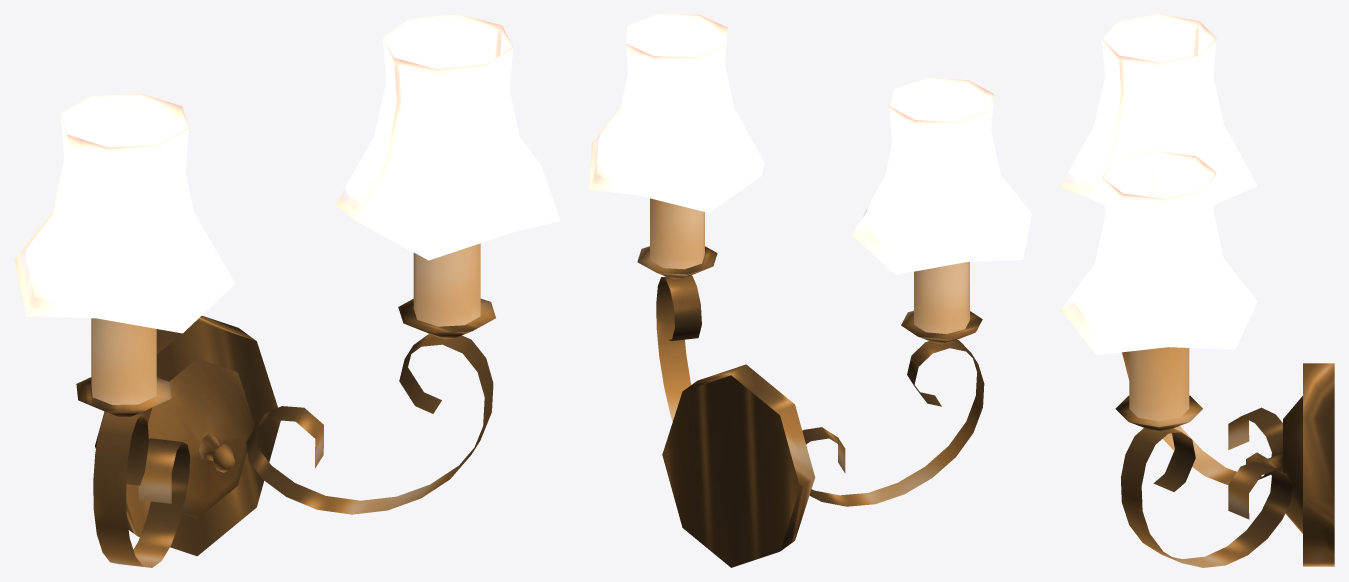
The model's file is sconce.fbx.
3 views of the same model, side by side, from view 1: azimuth 30°, elevation 25°; view 2: azimuth 150°, elevation 25°; view 3: azimuth 270°, elevation 25° (orthographic). The views are drawn at different scales.
Parts seen in each view (by area): view 1: wall_lightD; view 2: wall_lightD; view 3: wall_lightD.
Part boxes in pixels (x1,y1,x2,y2): wall_lightD: [14, 14, 560, 567]; wall_lightD: [589, 14, 1031, 567]; wall_lightD: [1060, 14, 1334, 567].
Size of the model in its own units: 70.27 by 68.98 by 37.04.
1 material, 1 textured.
